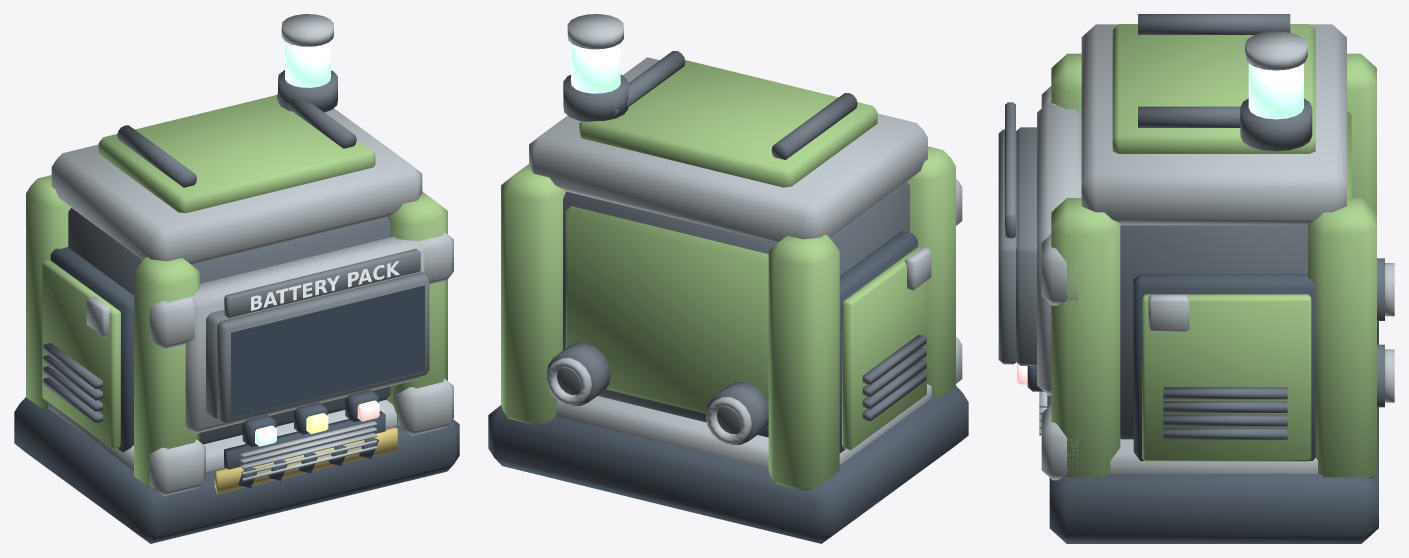
The model's file is battery_pack_standard.glb.
3 views of the same model, side by side, from view 1: azimuth 30°, elevation 25°; view 2: azimuth 150°, elevation 25°; view 3: azimuth 270°, elevation 25° (orthographic). The views are drawn at different scales.
Visible parts, largest first — view 1: TopCap_steel_legacy_10, Base_black_legacy_0, Frame_green_legacy_4, RoofPanel_green_legacy_11, LiveViewSurface_glass, CornerGuard_steel_legacy_5, Housing_dark_legacy_2, ServiceDoor_green_legacy_7, DisplayFrame_steel_legacy_13, LiveViewSurfaceFrame_frame, TypePlate_frame, SidePanel_black_legacy_6 (+13 smaller); view 2: Frame_green_legacy_4, Armor_green_legacy_3, Base_black_legacy_0, TopCap_steel_legacy_10, RoofPanel_green_legacy_11, ServiceDoor_green_legacy_7, Housing_dark_legacy_2, Skirt_steel_legacy_1, RearPort_dark_legacy_29, LiftRail_dark_legacy_12, SideVents_dark_legacy_8, SidePanel_black_legacy_6 (+6 smaller); view 3: Frame_green_legacy_4, TopCap_steel_legacy_10, Base_black_legacy_0, ServiceDoor_green_legacy_7, RoofPanel_green_legacy_11, Housing_dark_legacy_2, DisplayFrame_steel_legacy_13, SideVents_dark_legacy_8, SidePanel_black_legacy_6, LiftRail_dark_legacy_12, ScreenMount_frame, CornerGuard_steel_legacy_5 (+9 smaller).
Part boxes in pixels (left/top/right/bottom): TopCap_steel_legacy_10: left=51, top=108, right=422, bottom=264; Base_black_legacy_0: left=14, top=397, right=459, bottom=543; Frame_green_legacy_4: left=26, top=175, right=447, bottom=491; RoofPanel_green_legacy_11: left=98, top=95, right=375, bottom=213; LiveViewSurface_glass: left=231, top=285, right=424, bottom=417; CornerGuard_steel_legacy_5: left=149, top=232, right=453, bottom=496; Housing_dark_legacy_2: left=68, top=208, right=390, bottom=444; ServiceDoor_green_legacy_7: left=42, top=260, right=120, bottom=449; DisplayFrame_steel_legacy_13: left=185, top=236, right=424, bottom=433; LiveViewSurfaceFrame_frame: left=217, top=272, right=429, bottom=423; TypePlate_frame: left=224, top=248, right=420, bottom=318; SidePanel_black_legacy_6: left=50, top=247, right=133, bottom=452; Frame_green_legacy_4: left=501, top=146, right=955, bottom=490; Armor_green_legacy_3: left=565, top=206, right=768, bottom=428; Base_black_legacy_0: left=488, top=386, right=968, bottom=543; TopCap_steel_legacy_10: left=529, top=57, right=927, bottom=242; RoofPanel_green_legacy_11: left=579, top=60, right=877, bottom=187; ServiceDoor_green_legacy_7: left=842, top=246, right=926, bottom=450; Housing_dark_legacy_2: left=563, top=181, right=909, bottom=437; Skirt_steel_legacy_1: left=556, top=384, right=931, bottom=468; RearPort_dark_legacy_29: left=546, top=343, right=768, bottom=444; LiftRail_dark_legacy_12: left=615, top=51, right=857, bottom=159; SideVents_dark_legacy_8: left=862, top=335, right=926, bottom=421; SidePanel_black_legacy_6: left=839, top=231, right=917, bottom=453; Frame_green_legacy_4: left=1051, top=53, right=1376, bottom=478; TopCap_steel_legacy_10: left=1081, top=24, right=1346, bottom=225; Base_black_legacy_0: left=1049, top=321, right=1378, bottom=543; ServiceDoor_green_legacy_7: left=1142, top=294, right=1311, bottom=461; RoofPanel_green_legacy_11: left=1112, top=24, right=1315, bottom=153; Housing_dark_legacy_2: left=1120, top=225, right=1307, bottom=439; DisplayFrame_steel_legacy_13: left=1037, top=102, right=1081, bottom=395; SideVents_dark_legacy_8: left=1163, top=387, right=1287, bottom=439; SidePanel_black_legacy_6: left=1133, top=273, right=1315, bottom=460; LiftRail_dark_legacy_12: left=1138, top=14, right=1290, bottom=127; ScreenMount_frame: left=1016, top=127, right=1036, bottom=365; CornerGuard_steel_legacy_5: left=1041, top=86, right=1077, bottom=480.
Bounding box in the file's own units: 1.43 × 1.65 × 1.27.
